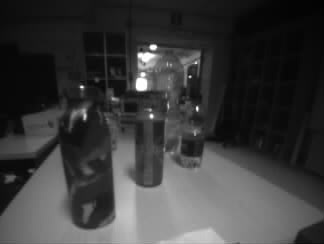Bottle: (64, 83, 114, 225), (159, 51, 181, 156), (183, 93, 201, 166)
Tin can: (134, 109, 164, 186)
